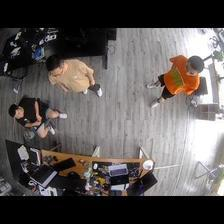normal: (146, 54, 205, 108), (46, 55, 105, 96), (8, 99, 67, 135)
